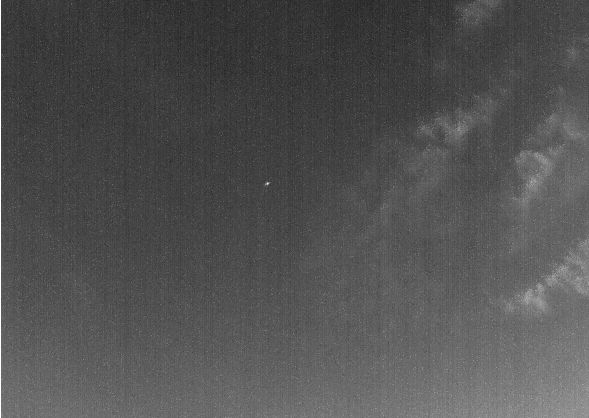dim target: (264, 181, 270, 187)
